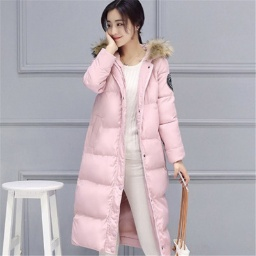face: (95, 3, 157, 53)
